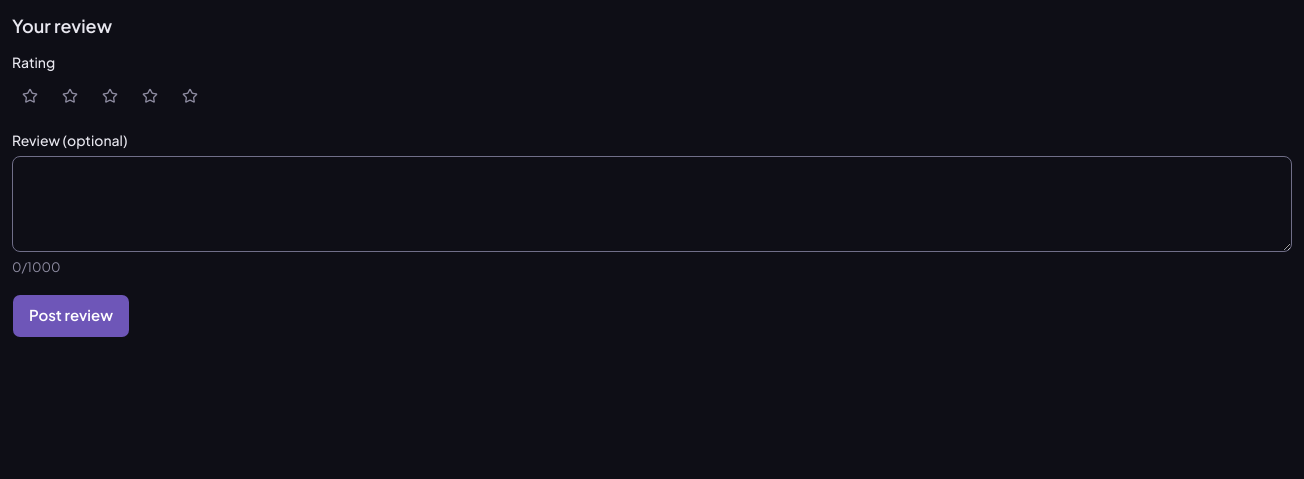
Test: backend field errors show under their own field
This screenshot has width=1304, height=479.
Click the radio button named "3 stars": x=110, y=96 left=102, top=88, right=118, bottom=104
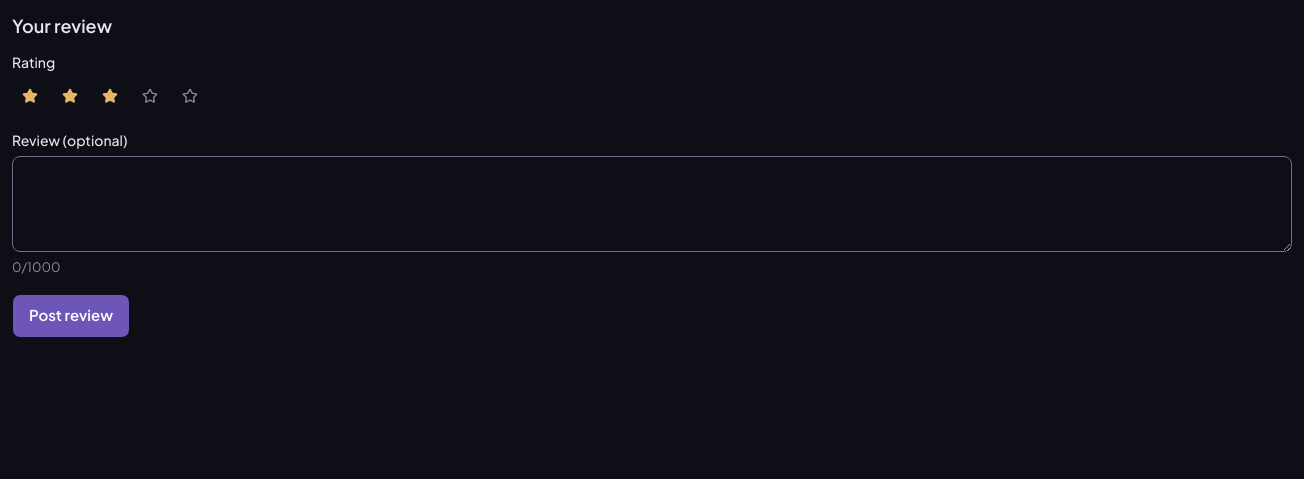
Click the button "Post review": x=71, y=316 left=12, top=294, right=130, bottom=338
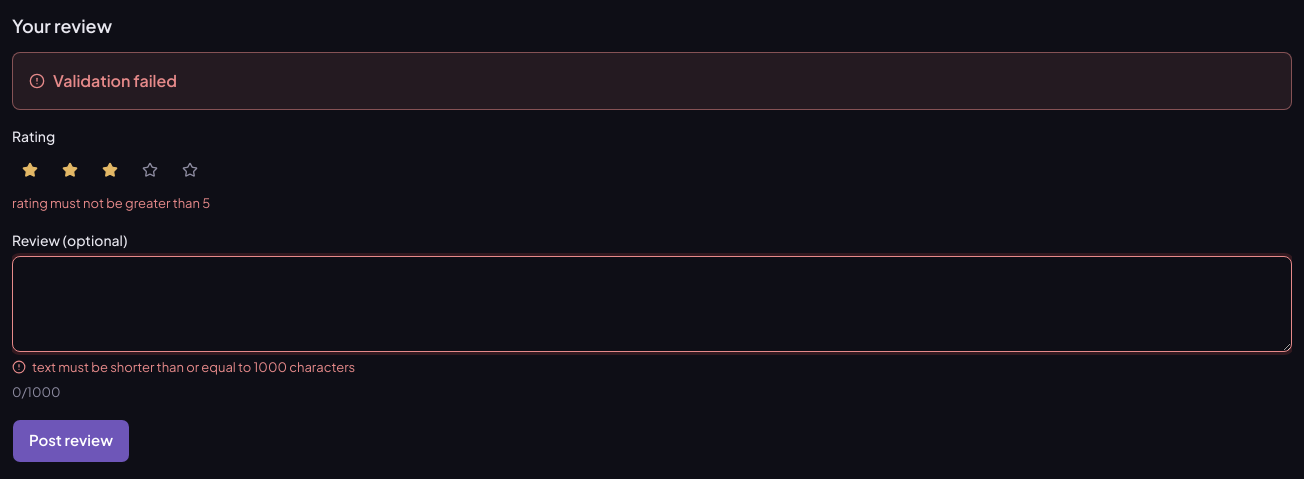
Expected: the text "rating must not be greater than 5" is shown, left=12, top=195, right=210, bottom=211
